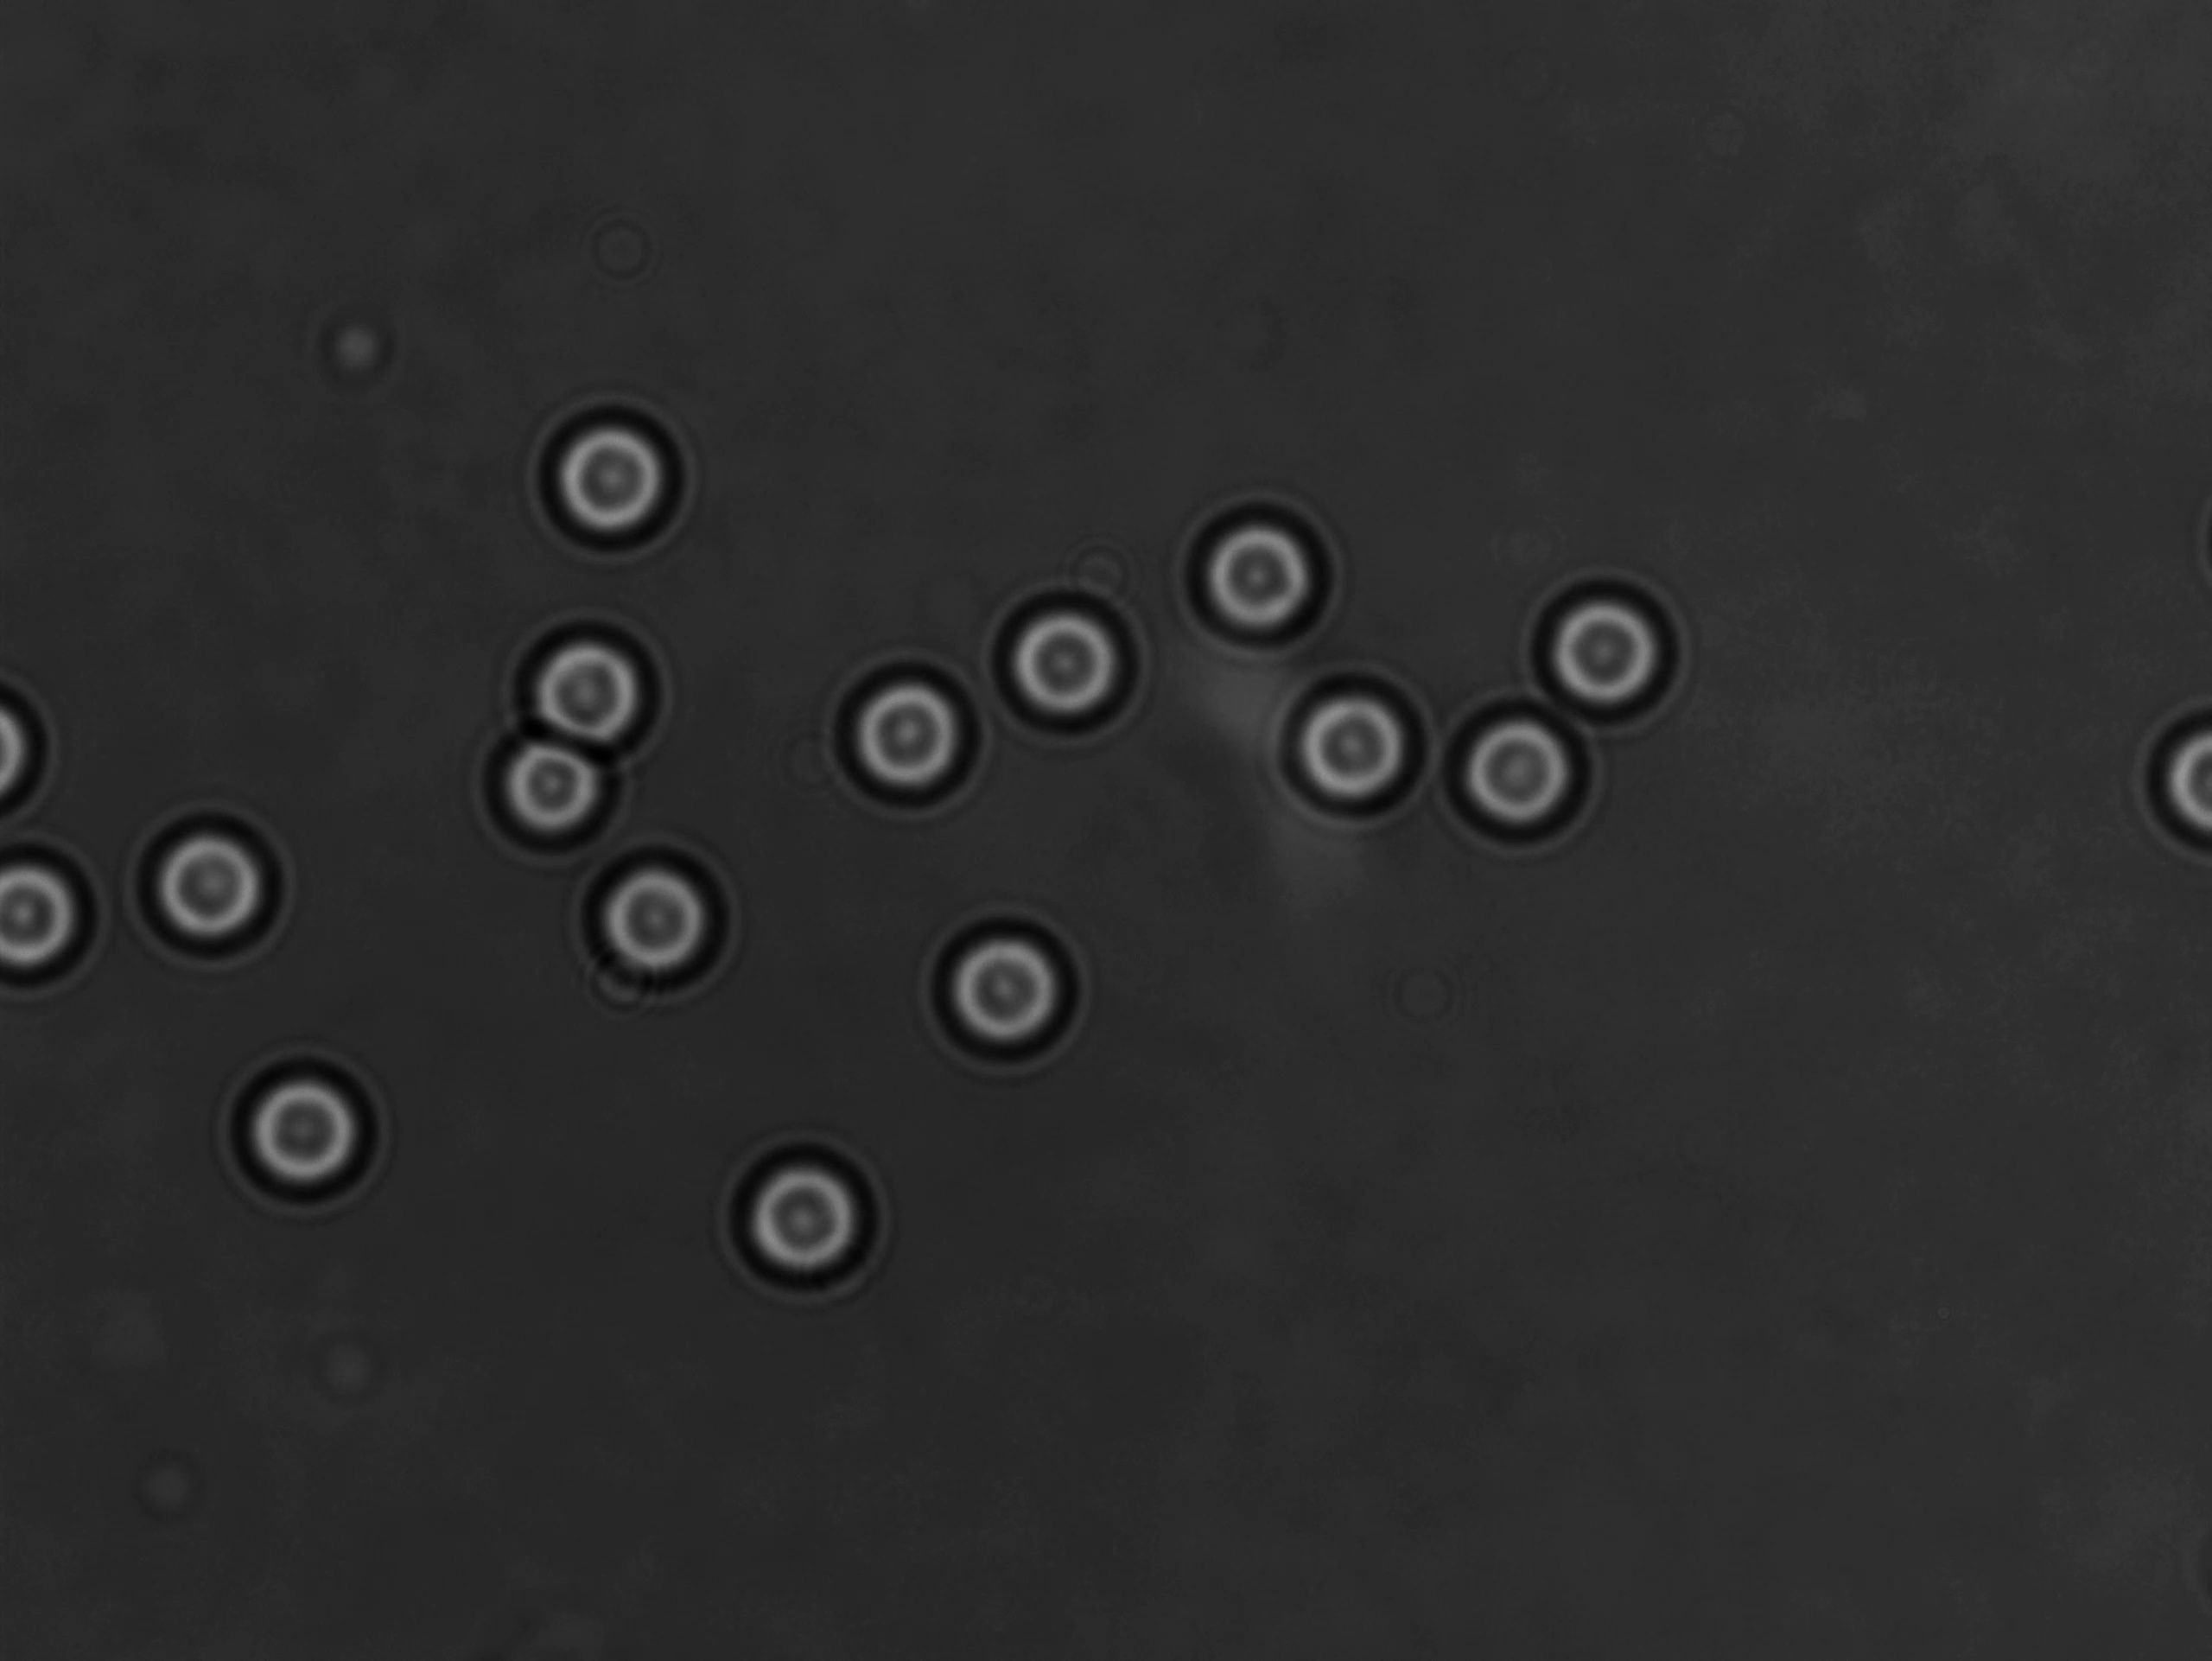depth:20: (1429, 673, 1596, 858), (1272, 660, 1450, 829), (218, 1047, 393, 1213), (1167, 490, 1335, 658), (1511, 562, 1680, 726), (525, 389, 689, 557), (518, 598, 679, 769), (930, 904, 1094, 1070), (813, 647, 979, 811), (588, 834, 748, 1003), (984, 572, 1153, 731), (722, 1145, 886, 1303), (131, 813, 298, 967), (478, 717, 635, 862)
